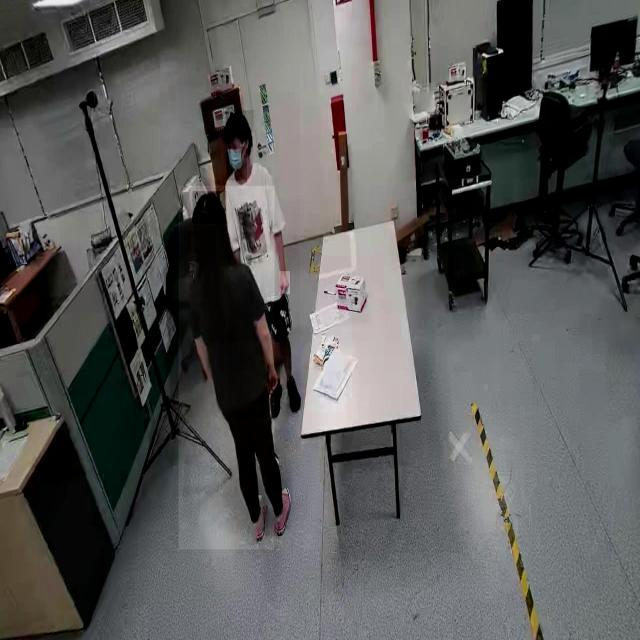face_mask: (226, 147, 247, 180)
hand_noglove: (267, 364, 280, 398), (279, 271, 290, 295)
head_nohelmet: (192, 191, 226, 224), (225, 110, 253, 134)
person: (178, 186, 274, 550), (228, 92, 300, 418)
shoes: (272, 486, 293, 543), (250, 491, 270, 547), (284, 374, 302, 414)
